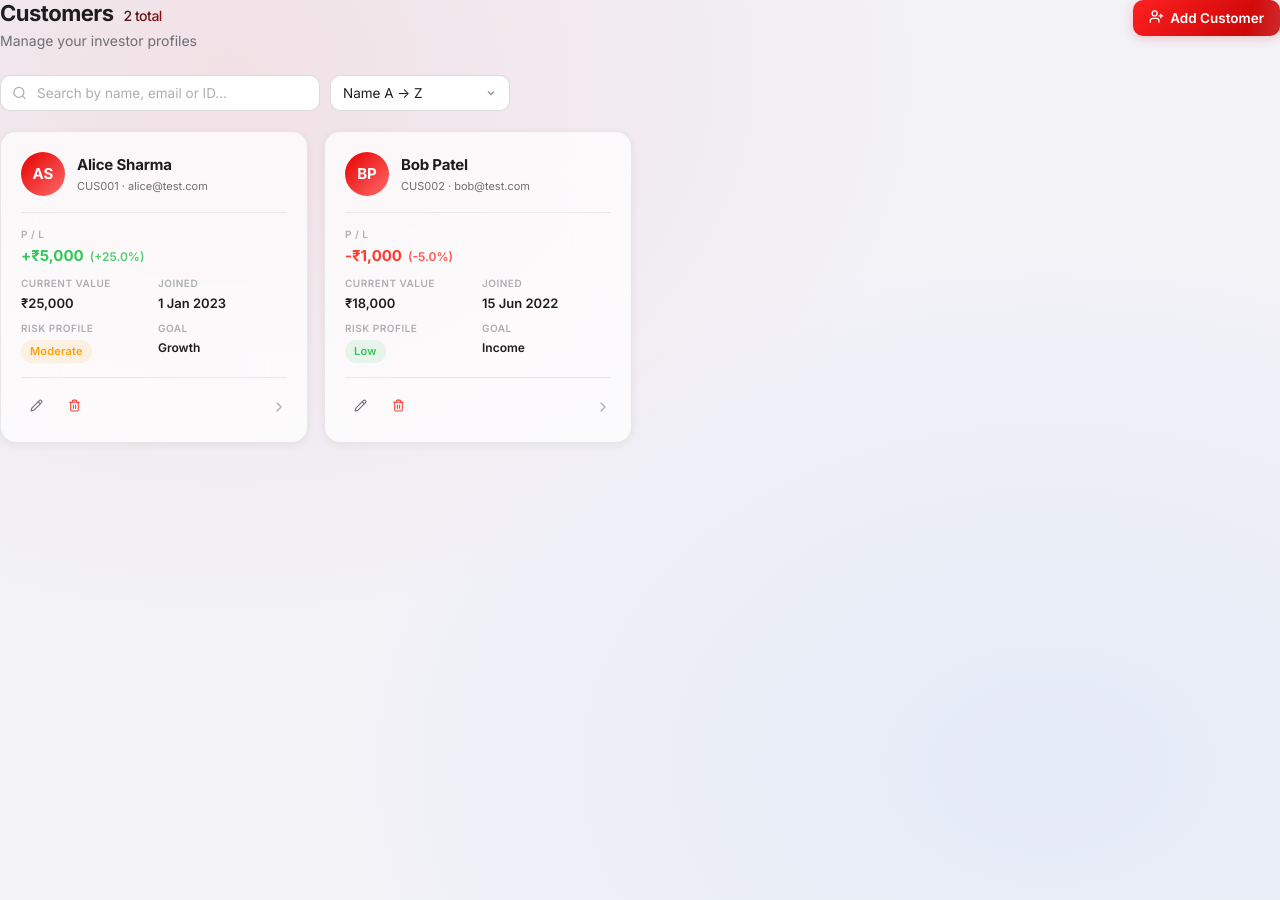
CustomersPage — delete › closes dialog on cancel
The image size is (1280, 900).
Step 1. Click the button named "delete alice sharma" → (74, 407), box x1=59 y1=392 x2=89 y2=422
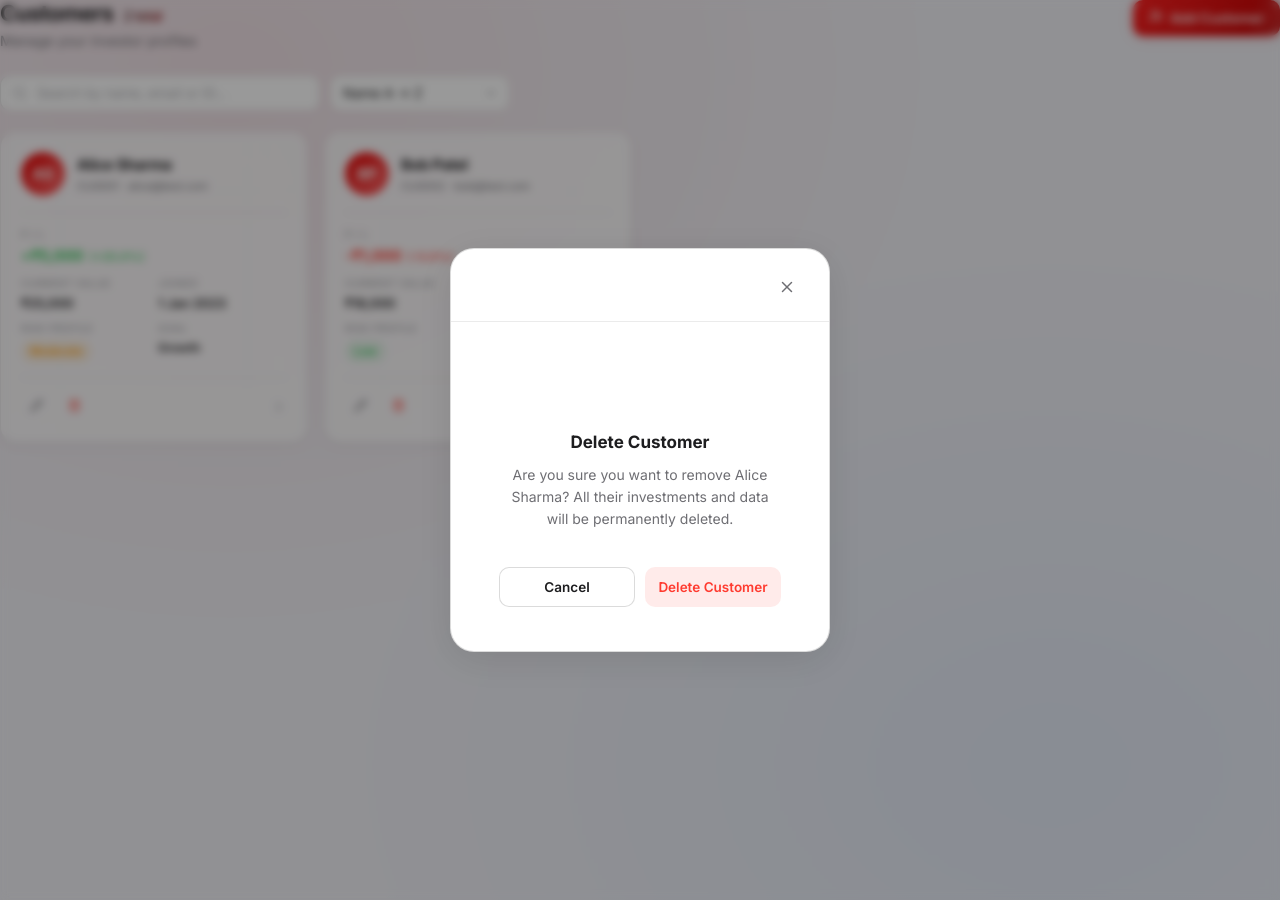
Step 2. Click the button "Cancel" → (567, 587), box x1=499 y1=567 x2=635 y2=607
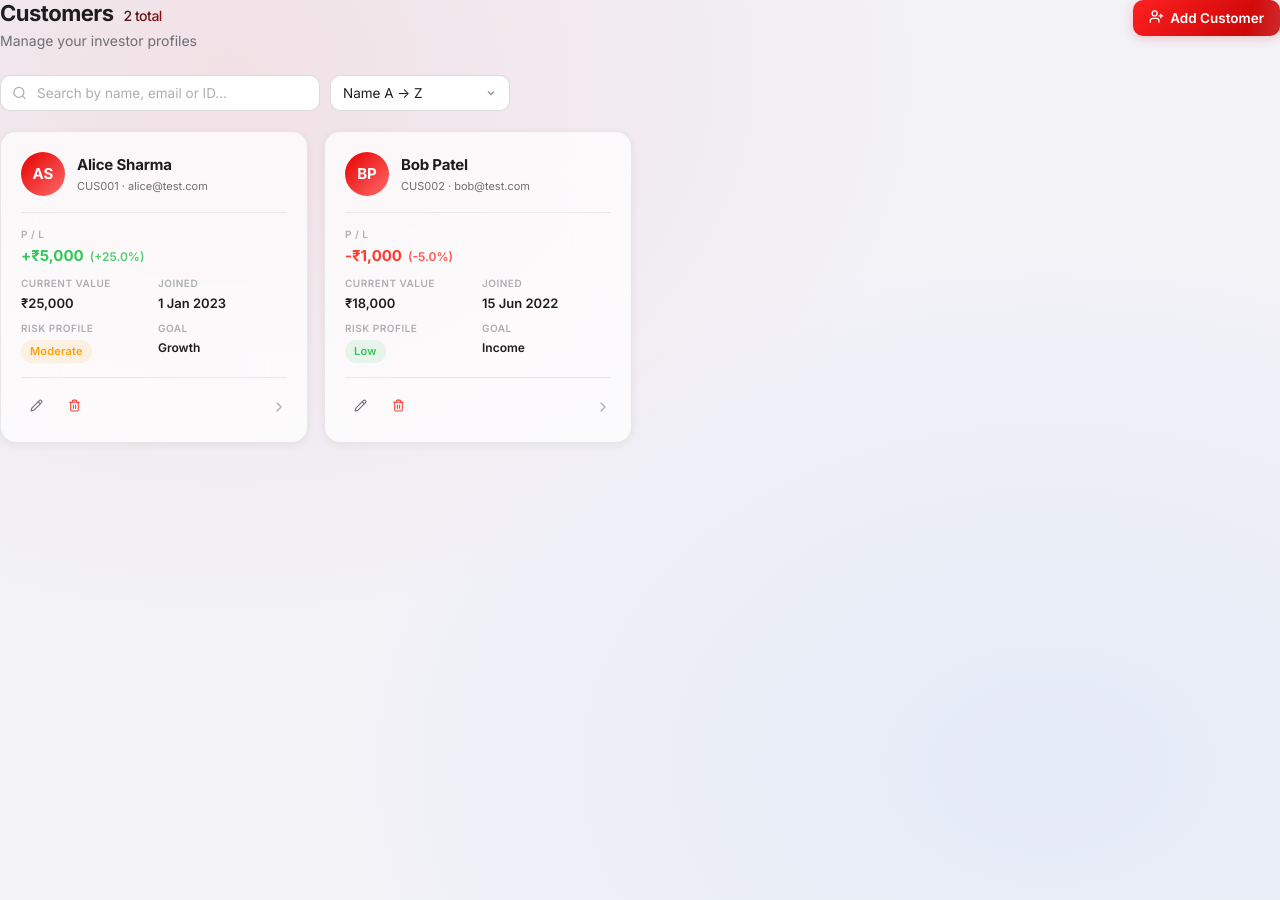
expect the text "Delete Customer" is gone: met
